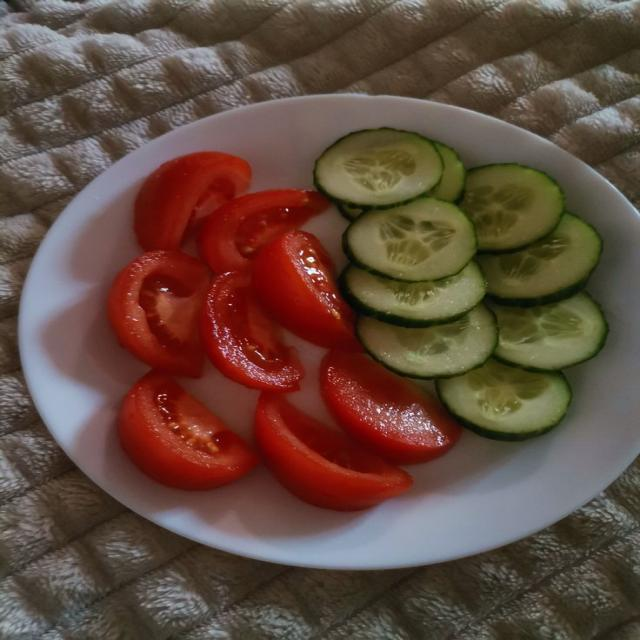sliced_tomato: (255, 393, 413, 510), (119, 371, 258, 489), (320, 351, 461, 463), (253, 230, 362, 350), (108, 251, 209, 377), (201, 273, 304, 391), (134, 152, 251, 251), (199, 190, 329, 273)
